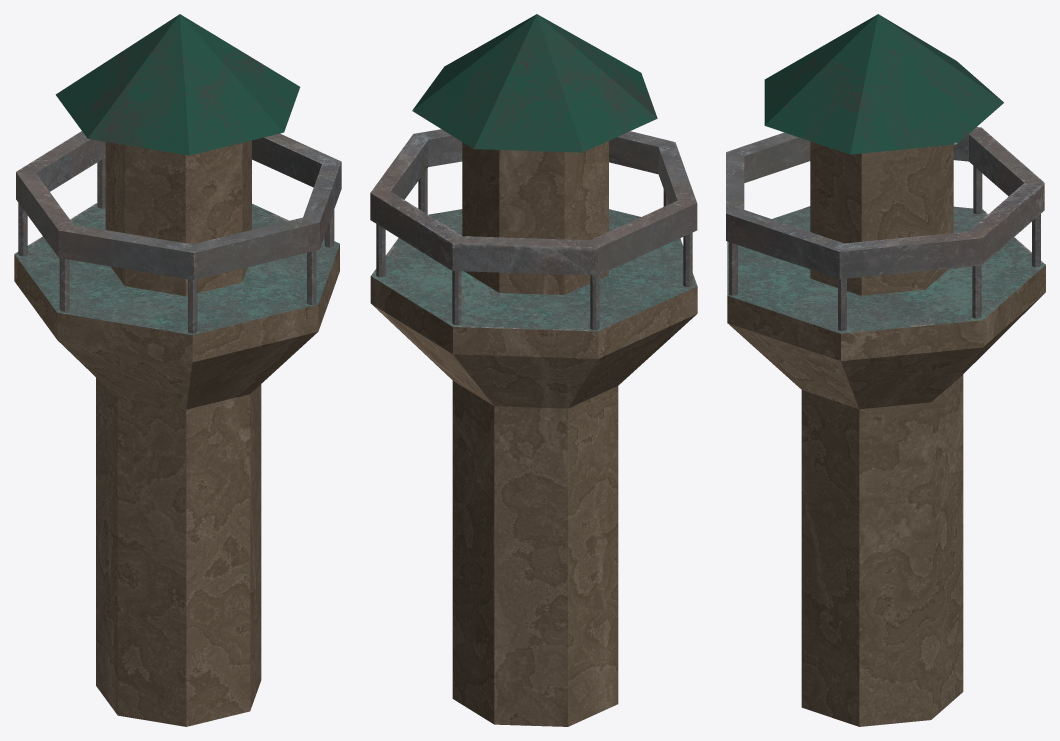
The model's file is watchtower.fbx.
The picture shows the model from 3 angles, left to right: view 1: azimuth 30°, elevation 25°; view 2: azimuth 150°, elevation 25°; view 3: azimuth 270°, elevation 25°; orthographic projection.
Parts seen in each view (by area): view 1: Cylinder.018, Cylinder.024, Cylinder.023, Cylinder.022; view 2: Cylinder.018, Cylinder.025, Cylinder.019; view 3: Cylinder.018, Cylinder.020.
Boxes of the visible parts, x1,y1,x2,y2 form: Cylinder.018: (14,14,341,726); Cylinder.024: (59,258,69,311); Cylinder.023: (188,279,197,333); Cylinder.022: (307,250,316,304); Cylinder.018: (370,14,697,726); Cylinder.025: (590,275,599,329); Cylinder.019: (452,271,461,324); Cylinder.018: (726,14,1045,726); Cylinder.020: (972,265,981,318).
Bounding box in the file's own units: 2237 × 2294 × 5230.
Materials: 4 (4 with a texture image).
